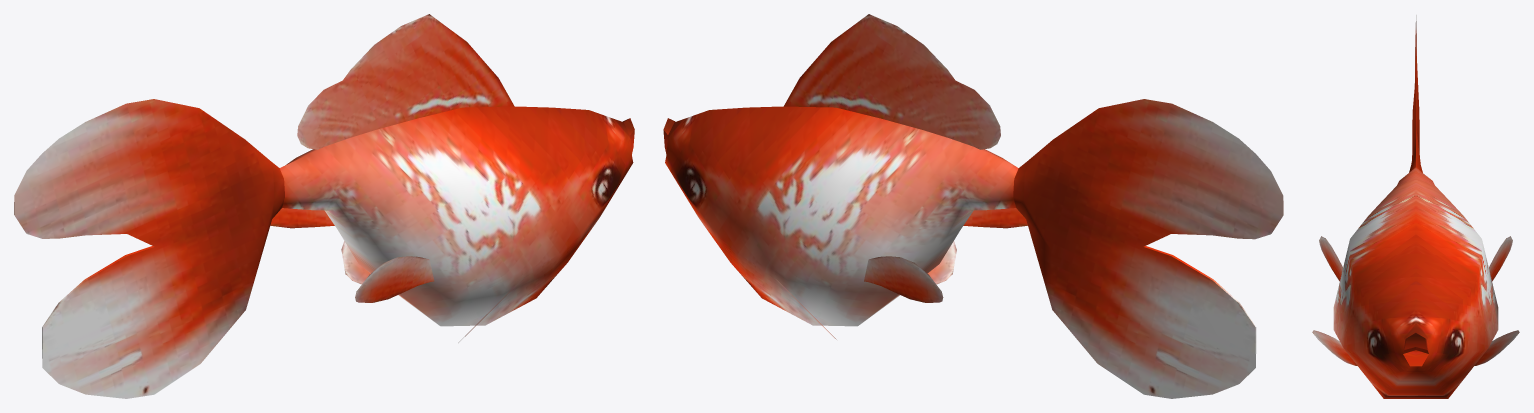
Rendered from fish.dae.
3 renders of one model, left to right at view 1: azimuth 30°, elevation 25°; view 2: azimuth 150°, elevation 25°; view 3: azimuth 270°, elevation 25°, orthographic. The views are drawn at different scales.
Parts seen in each view (by area): view 1: Group4, Group3, Group5, Group7, Group2, Group8; view 2: Group4, Group3, Group5, Group2, Group7, Group6; view 3: Group3, Group4, Group6, Group8, Group2, Group7.
Part boxes in pixels (x1,y1,x2,y2): Group4: [14, 99, 284, 398]; Group3: [279, 106, 634, 326]; Group5: [297, 14, 514, 149]; Group7: [355, 256, 434, 302]; Group2: [270, 208, 334, 228]; Group8: [341, 241, 370, 284]; Group4: [1013, 99, 1283, 398]; Group3: [663, 106, 1018, 326]; Group5: [783, 14, 1000, 149]; Group2: [864, 256, 943, 302]; Group7: [963, 208, 1027, 228]; Group6: [927, 241, 956, 284]; Group3: [1333, 167, 1498, 398]; Group4: [1409, 15, 1422, 172]; Group6: [1312, 330, 1357, 365]; Group8: [1474, 330, 1519, 365]; Group2: [1489, 236, 1512, 281]; Group7: [1319, 236, 1342, 281].
Bounding box in the file's own units: 386 × 141 × 188.
2 materials, 2 textured.
